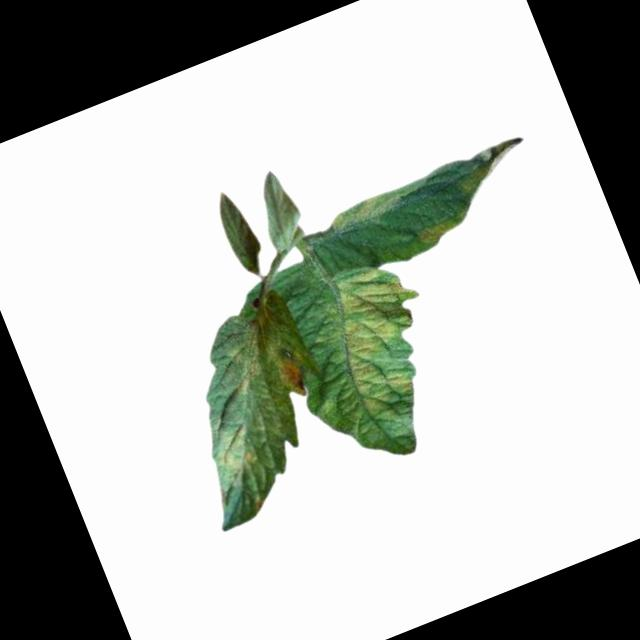Leaf_Mold: (295, 249, 460, 441), (324, 173, 433, 239), (213, 316, 290, 402), (446, 130, 540, 200), (206, 418, 266, 485), (410, 207, 470, 254), (269, 338, 314, 399)
